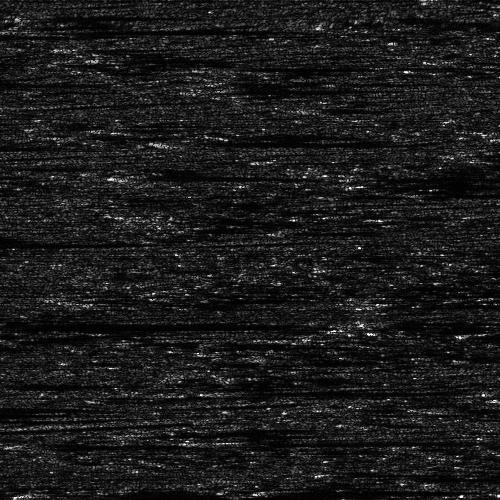rock: (70, 162, 185, 187), (222, 486, 305, 495), (0, 442, 61, 451), (188, 63, 219, 72), (0, 235, 16, 250), (448, 329, 479, 336), (26, 27, 67, 32), (199, 390, 240, 393), (476, 394, 500, 399), (367, 302, 398, 305), (492, 145, 500, 152), (0, 378, 7, 385)
shadow: (128, 162, 313, 187), (264, 486, 466, 495), (0, 235, 120, 250), (25, 442, 210, 451), (0, 320, 235, 327), (47, 27, 274, 32), (204, 63, 301, 72), (0, 403, 108, 410), (231, 440, 431, 443), (220, 390, 416, 393), (0, 378, 76, 385), (383, 302, 483, 305), (0, 143, 56, 148), (464, 329, 500, 336), (437, 406, 500, 409)
